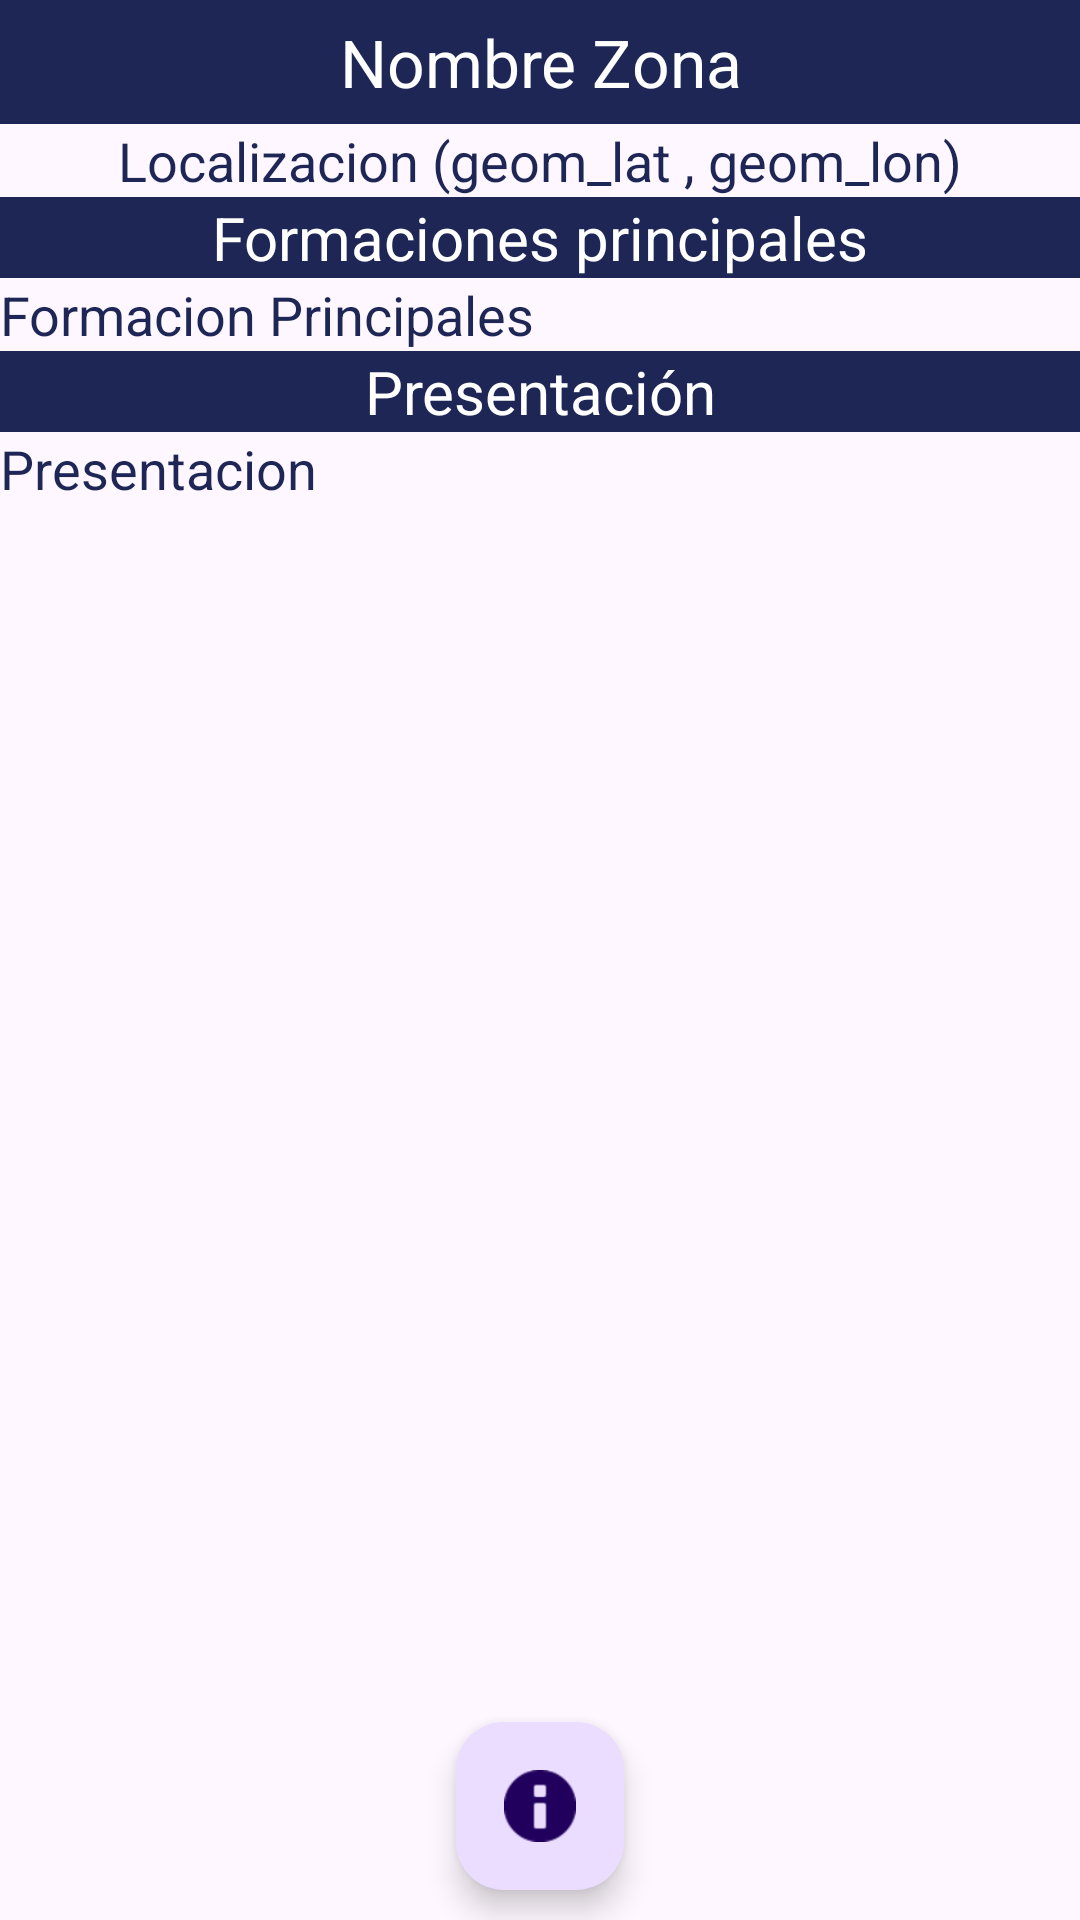

Named icons in this screenshot (1080×1920) and their bounding boxes, bbox(x1, y1, x2, y2):
info: bbox(456, 1722, 624, 1890)
